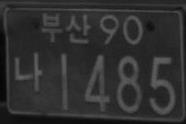0: (122, 14, 143, 45)
1: (49, 53, 75, 111)
4: (83, 54, 110, 113)
5: (149, 56, 176, 115)
8: (115, 55, 143, 114)
9: (98, 14, 120, 44)
나: (14, 52, 43, 91)
부산_O: (42, 12, 91, 44)
